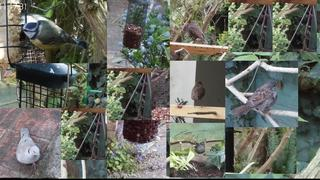blue tit: (20, 20, 87, 50)
collared dove: (16, 128, 41, 171)
dunnock: (229, 81, 278, 117)
robin: (191, 81, 205, 108)
sparrow: (192, 143, 205, 156)
starling: (188, 20, 208, 45)
